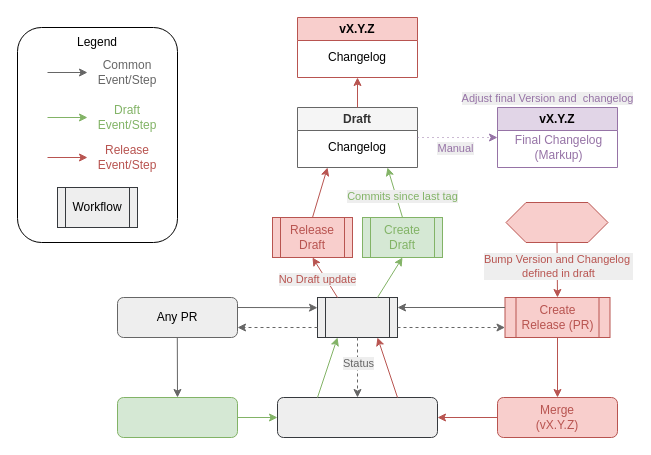
Image size: 651x455. Some labels were removed from this diagram. The box of each missing label's shape, as (x1, y1, x2, y2) in pixels:
Build: (316, 296, 398, 338)
Commit: (116, 396, 238, 438)
main: (276, 396, 438, 438)
Manual trigger: (505, 202, 608, 242)
